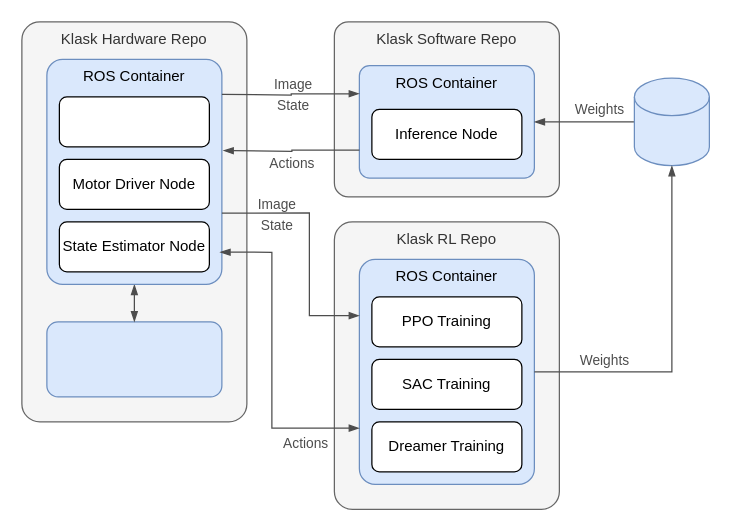
This 731x531 diagram has some shape labels left out. The centre of each missing label's shape, as x and y in pixels:
Camera Node: point (133, 121)
Hardware: point (134, 359)
Polybox: point (671, 121)
